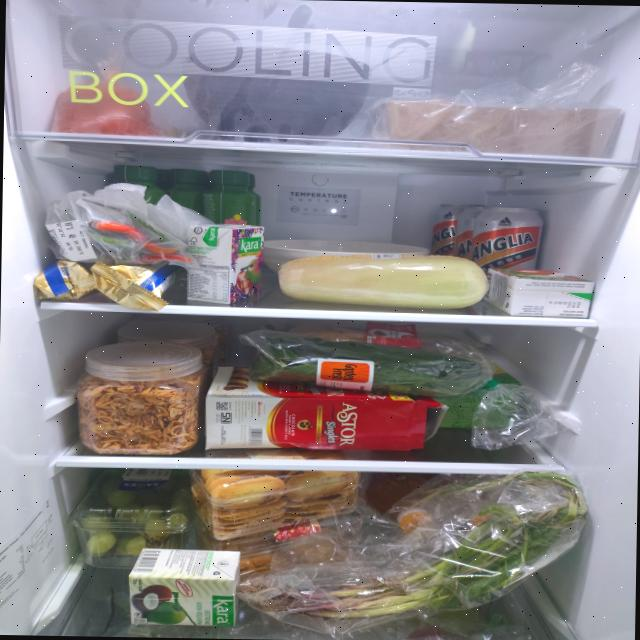chili: (78, 193, 193, 264)
coconut_milk: (127, 548, 241, 626), (187, 222, 266, 304), (482, 268, 594, 318)
corn: (276, 251, 489, 310)
grape: (80, 475, 192, 559)
spring_onion: (236, 466, 590, 622), (248, 334, 482, 398)
